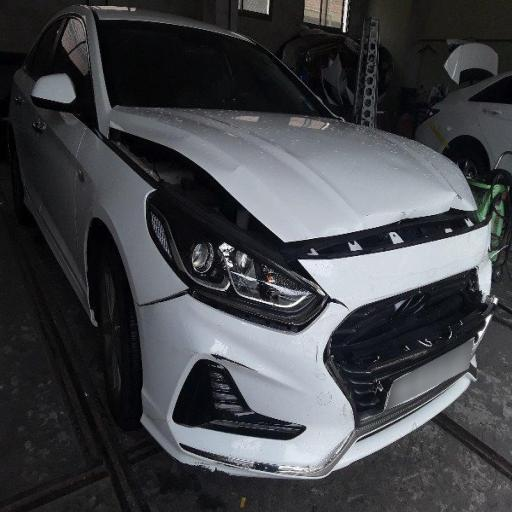dent: (100, 80, 351, 361)
